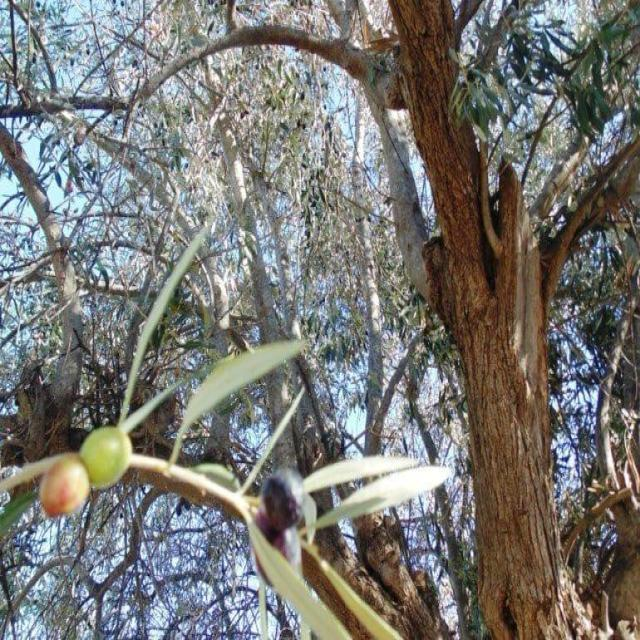Healthy: (39, 425, 132, 516)
